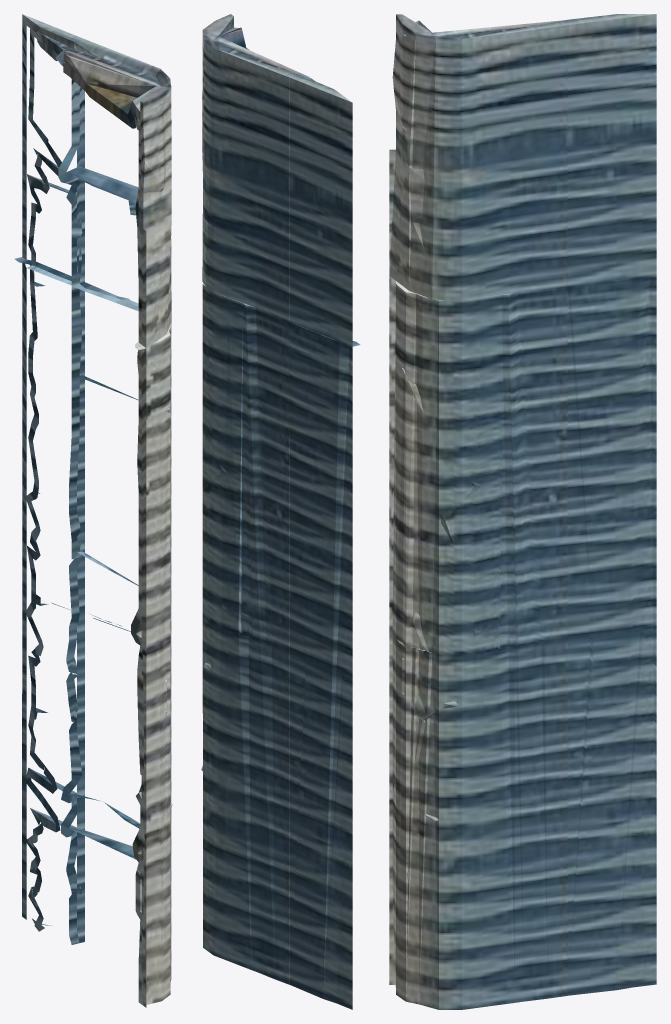
The model's file is chunk_2_6.glb.
3 views of the same model, side by side, from view 1: azimuth 30°, elevation 25°; view 2: azimuth 210°, elevation 25°; view 3: azimuth 270°, elevation 25° (orthographic). The views are drawn at different scales.
Parts seen in each view (by area): view 1: hero-chunk; view 2: hero-chunk; view 3: hero-chunk.
Boxes of the visible parts, x1,y1,x2,y2 form: hero-chunk: (14, 14, 172, 1007); hero-chunk: (201, 14, 360, 1009); hero-chunk: (389, 14, 656, 1009).
Bounding box in the file's own units: 6.78 × 100 × 24.9.
4 materials, 4 textured.
